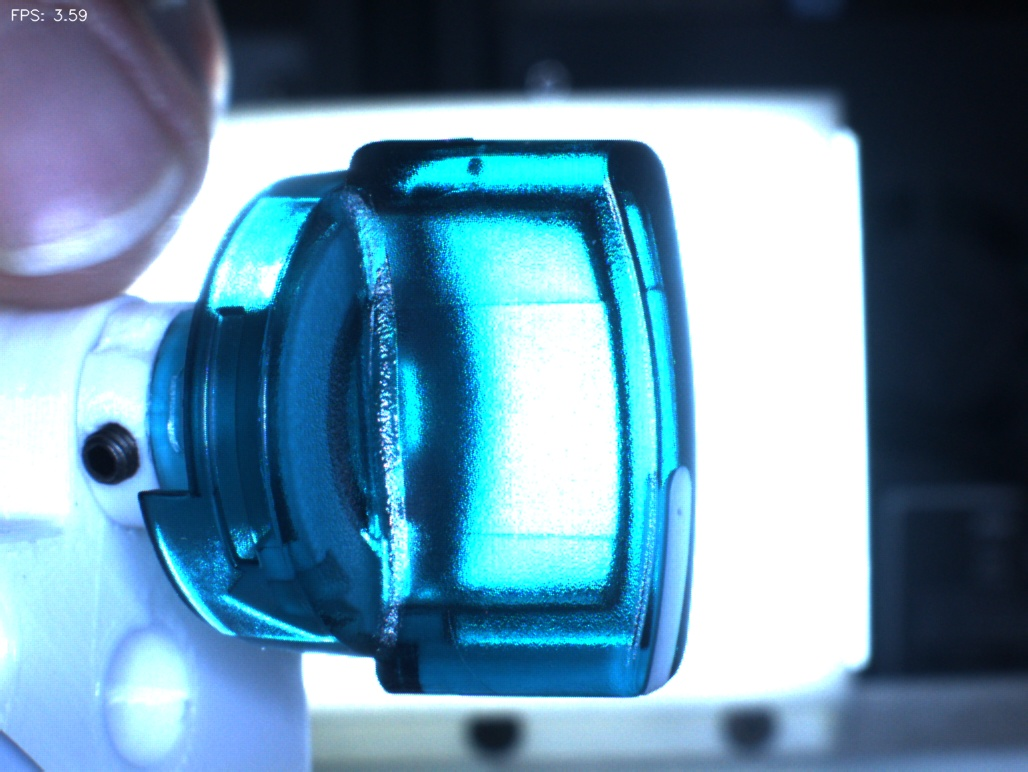Bulle: (424, 121, 530, 218)
